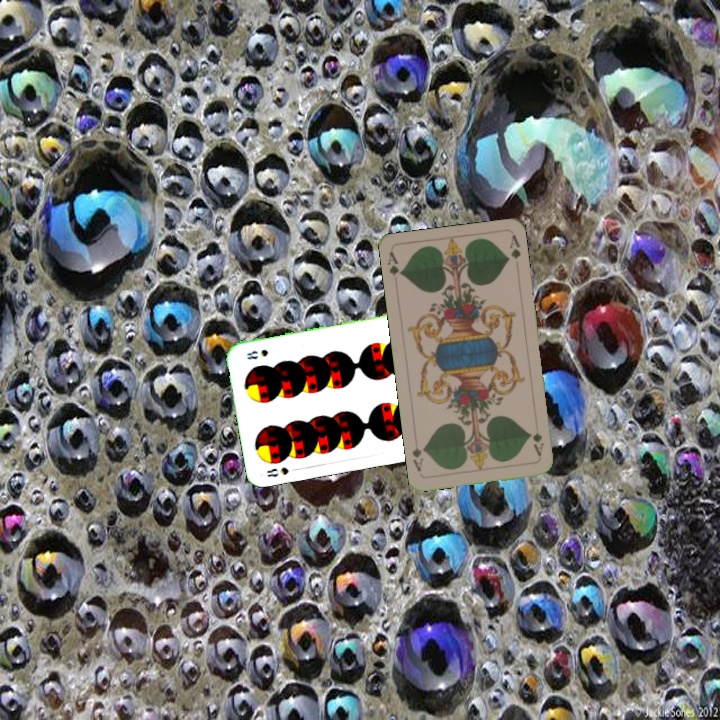GA: (527, 420, 546, 458), (383, 248, 405, 278)
S8: (263, 463, 302, 480)
